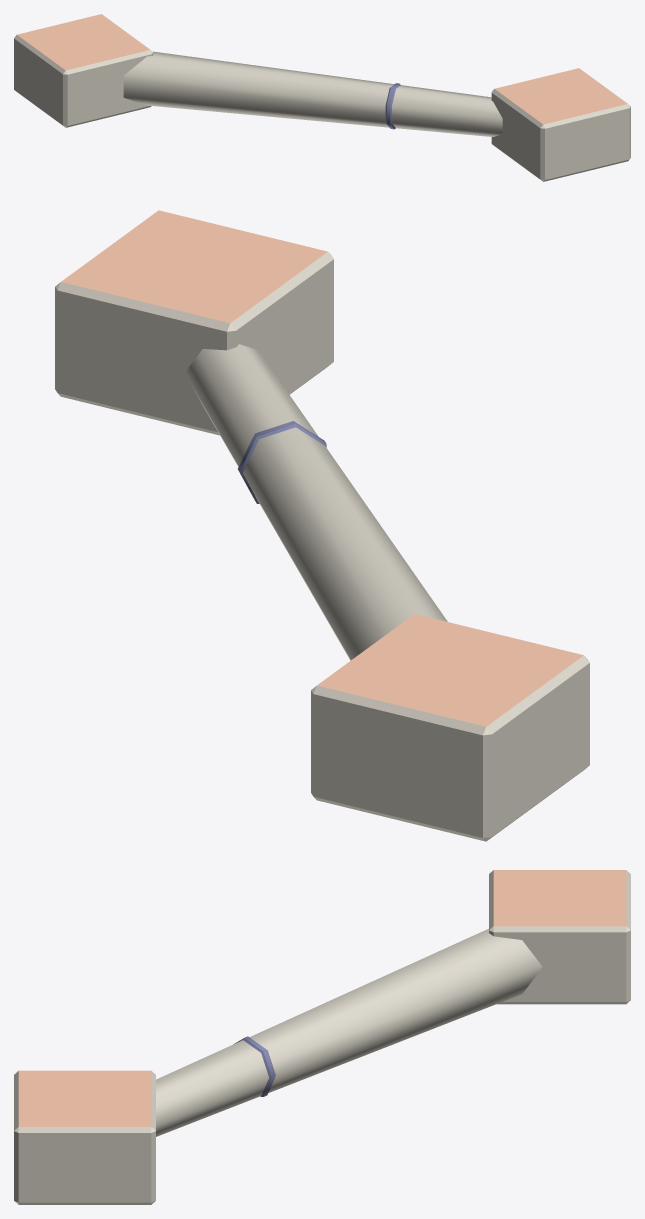
The model's file is R4C_ROD_DIAG_2D_LONG_LOD1.fbx.
3 renders of one model, top to bottom at view 1: azimuth 30°, elevation 25°; view 2: azimuth 150°, elevation 25°; view 3: azimuth 270°, elevation 25°, orthographic. The views are drawn at different scales.
Visible parts, largest first — view 1: R4C_ROD_DIAG_2D_LONG_LOD1; view 2: R4C_ROD_DIAG_2D_LONG_LOD1; view 3: R4C_ROD_DIAG_2D_LONG_LOD1.
Boxes of the visible parts, x1,y1,x2,y2 form: R4C_ROD_DIAG_2D_LONG_LOD1: (14, 14, 630, 181); R4C_ROD_DIAG_2D_LONG_LOD1: (55, 210, 589, 841); R4C_ROD_DIAG_2D_LONG_LOD1: (14, 870, 630, 1204).
Bounding box in the file's own units: 1.62 × 0.226 × 1.62.
